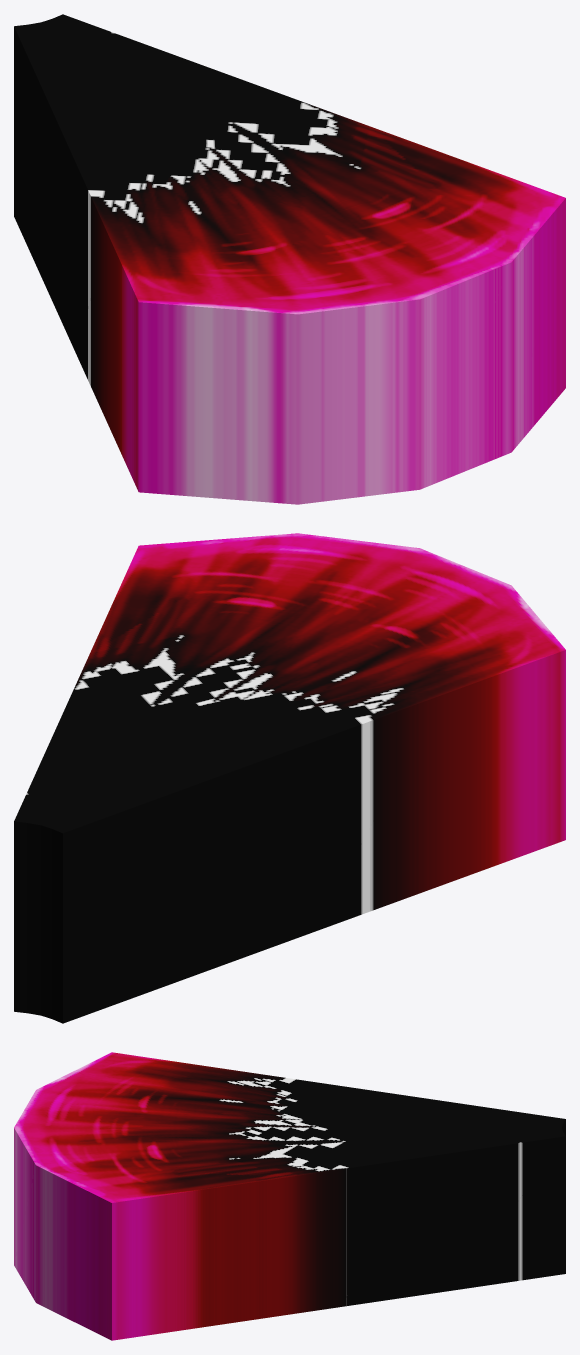
The model's file is Bia_Attack_Collider.fbx.
3 views of the same model, one above another, from view 1: azimuth 30°, elevation 25°; view 2: azimuth 150°, elevation 25°; view 3: azimuth 270°, elevation 25° (orthographic). The views are drawn at different scales.
Parts seen in each view (by area): view 1: Bia_Attack_Model.001; view 2: Bia_Attack_Model.001; view 3: Bia_Attack_Model.001.
Boxes of the visible parts, x1,y1,x2,y2 form: Bia_Attack_Model.001: [14, 14, 565, 504]; Bia_Attack_Model.001: [14, 533, 565, 1023]; Bia_Attack_Model.001: [14, 1052, 565, 1340].
Bounding box in the file's own units: 200 × 85.1 × 309.
1 material, 1 textured.
